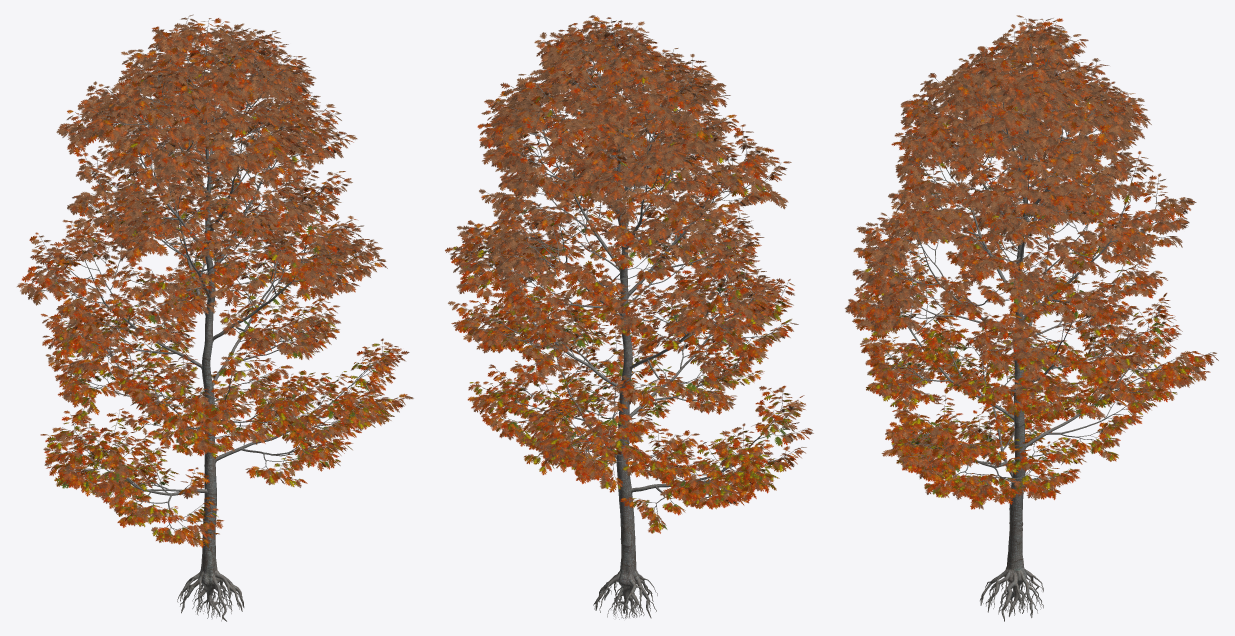
Rendered from nothern_red_oak.glb.
3 renders of one model, left to right at view 1: azimuth 30°, elevation 25°; view 2: azimuth 150°, elevation 25°; view 3: azimuth 270°, elevation 25°, orthographic.
Parts seen in each view (by area): view 1: Quercus_rubra_HD, Quercus_rubra_HD_Quercus rub twig 02_0.001; view 2: Quercus_rubra_HD, Quercus_rubra_HD_Quercus rub twig 02_0.001; view 3: Quercus_rubra_HD, Quercus_rubra_HD_Quercus rub twig 02_0.001.
Part boxes in pixels (x1=…): Quercus_rubra_HD: x1=17, y1=14, x2=413, y2=621; Quercus_rubra_HD_Quercus rub twig 02_0.001: x1=56, y1=25, x2=403, y2=483; Quercus_rubra_HD: x1=445, y1=15, x2=813, y2=619; Quercus_rubra_HD_Quercus rub twig 02_0.001: x1=472, y1=19, x2=788, y2=461; Quercus_rubra_HD: x1=845, y1=15, x2=1218, y2=621; Quercus_rubra_HD_Quercus rub twig 02_0.001: x1=860, y1=22, x2=1160, y2=490.
Bounding box in the file's own units: 1.6 × 2.65 × 1.54.
Materials: 10 (10 with a texture image).
